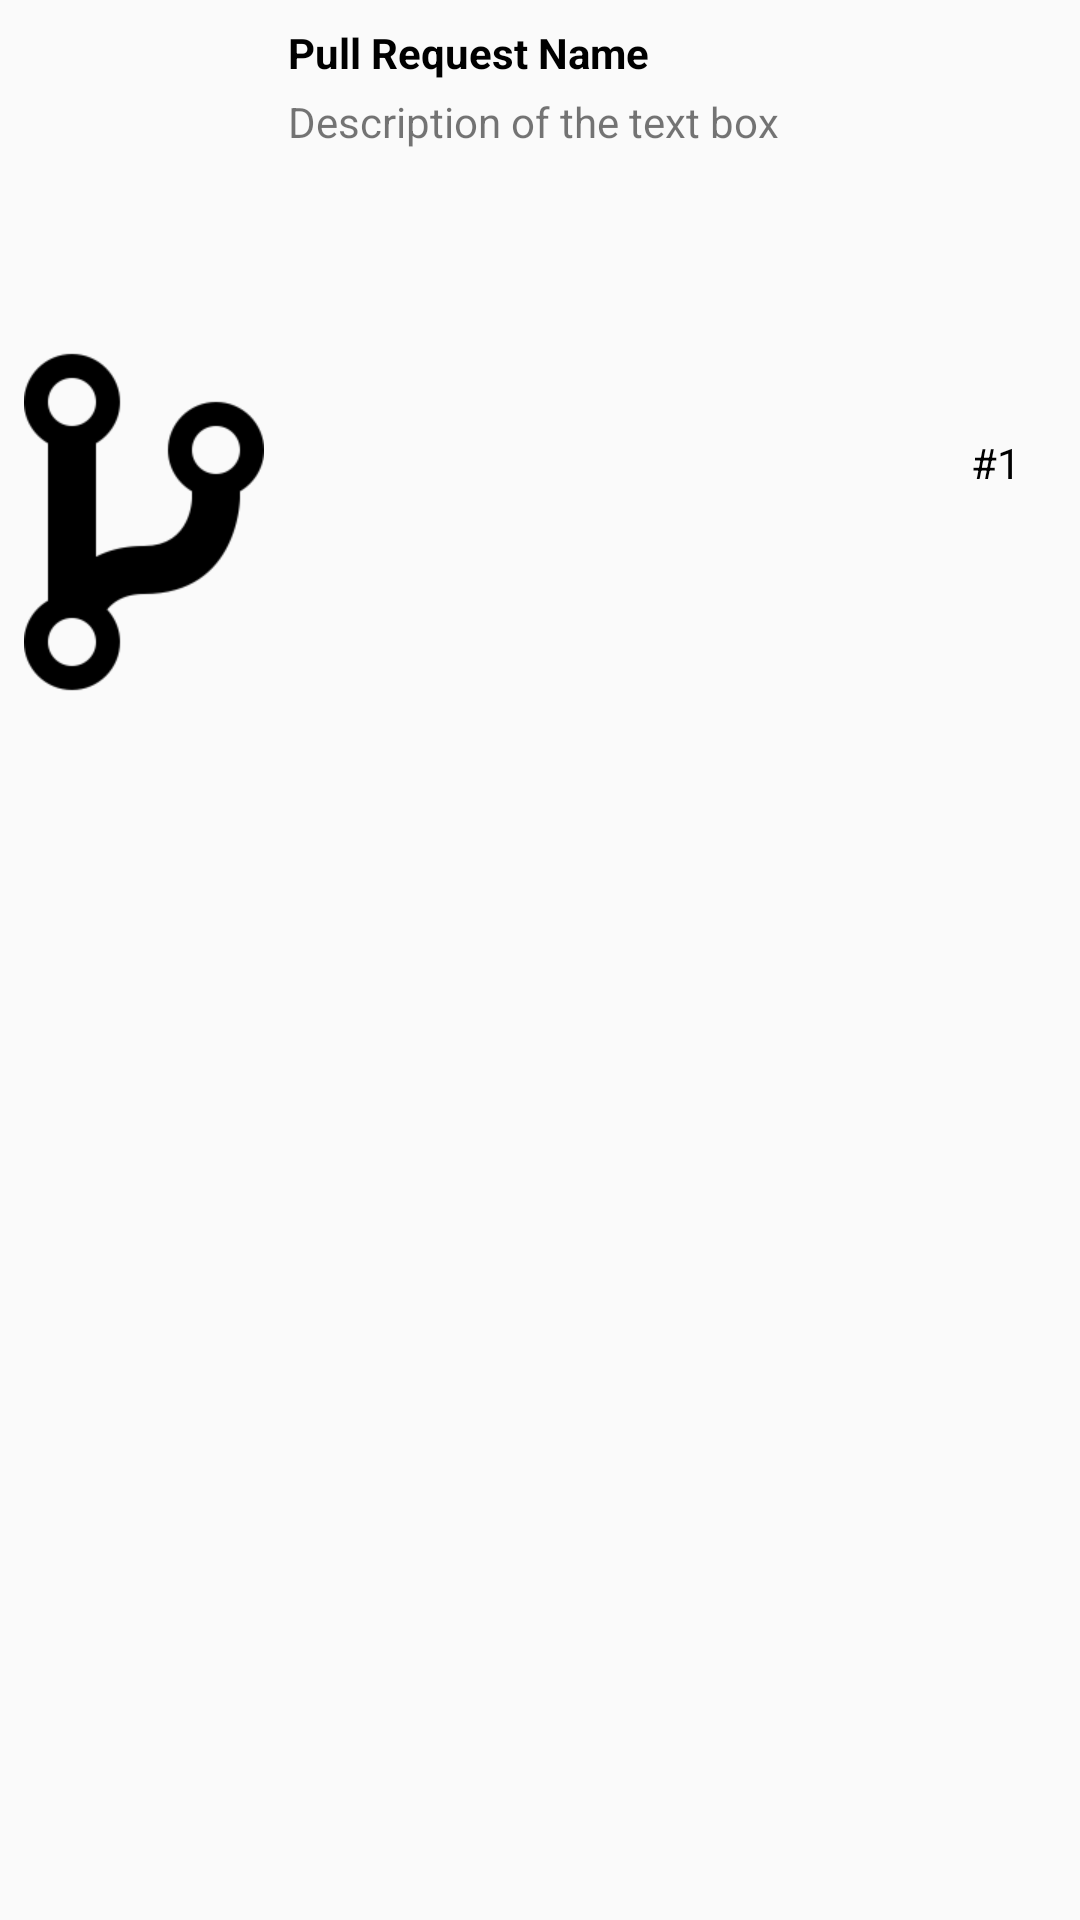

Icons on this 1080px x 1920px Android screen, each with the point to tap as (x=x, y=y):
branch: (x=144, y=522)
